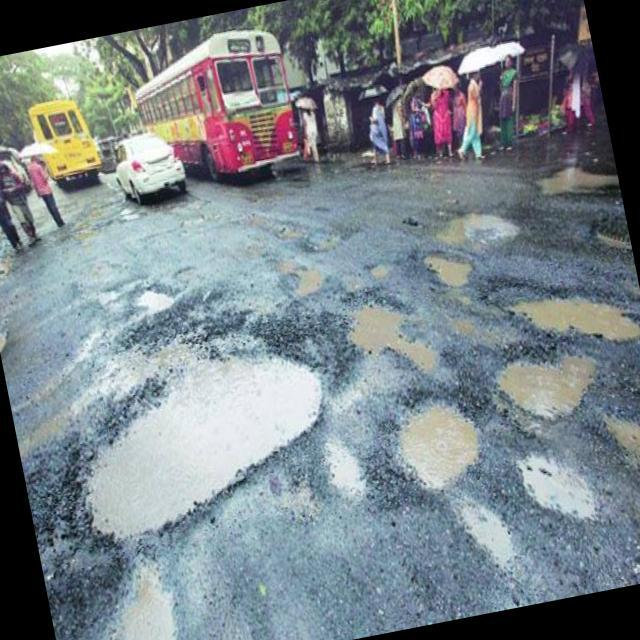Pothole: (29, 308, 365, 534), (367, 368, 526, 498), (60, 524, 219, 640), (502, 264, 640, 375), (506, 424, 612, 549), (444, 462, 550, 587), (426, 169, 542, 277), (482, 328, 605, 416), (342, 283, 439, 392), (520, 142, 622, 212), (117, 263, 206, 341), (595, 403, 640, 544), (153, 185, 235, 250), (420, 232, 496, 298), (282, 266, 338, 312), (584, 218, 634, 266), (116, 197, 158, 238)
